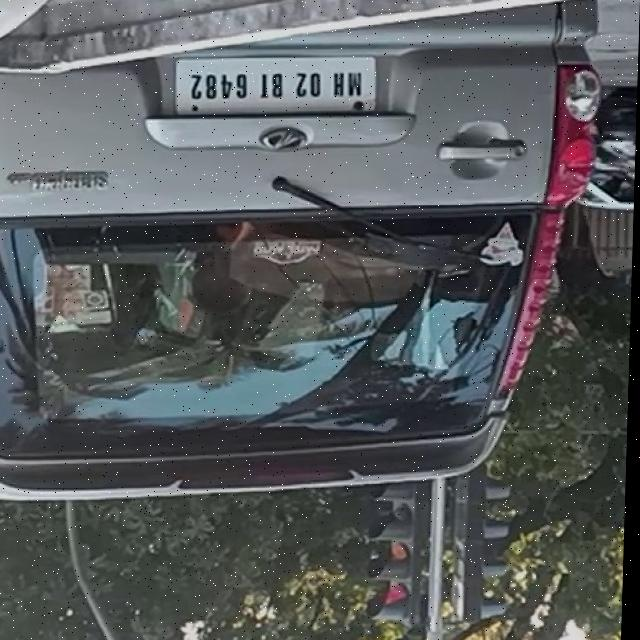plate: (173, 56, 382, 118)
